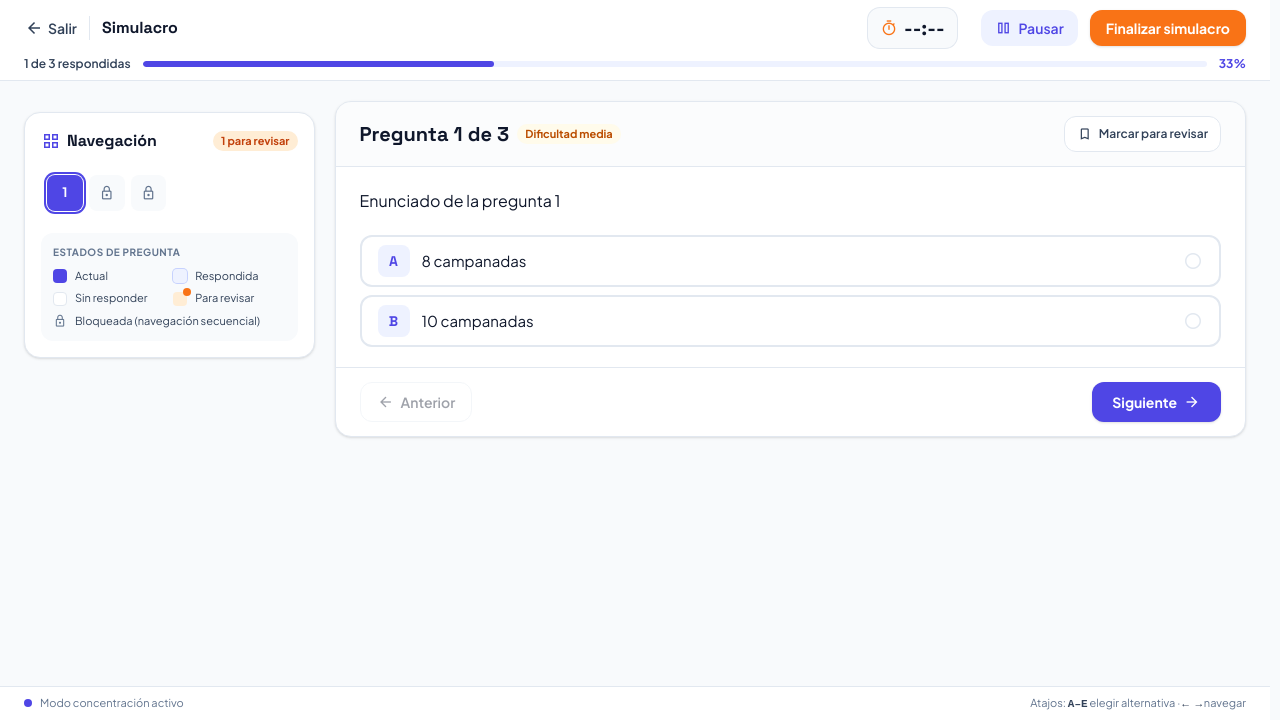
it: SimulacroPage › en navegación secuencial avanza con Siguiente pero no deja saltar a preguntas no vistas
Expected: the heading "Pregunta 1 de 3" is shown, [360,120,509,148]
Expected: the button named "Pregunta 3," is disabled, [130,175,166,211]
What coordinates should you click on to do the following:
click the button "Siguiente"
I would click on:
 (1157, 402)
Its box is [1092,382,1221,422].
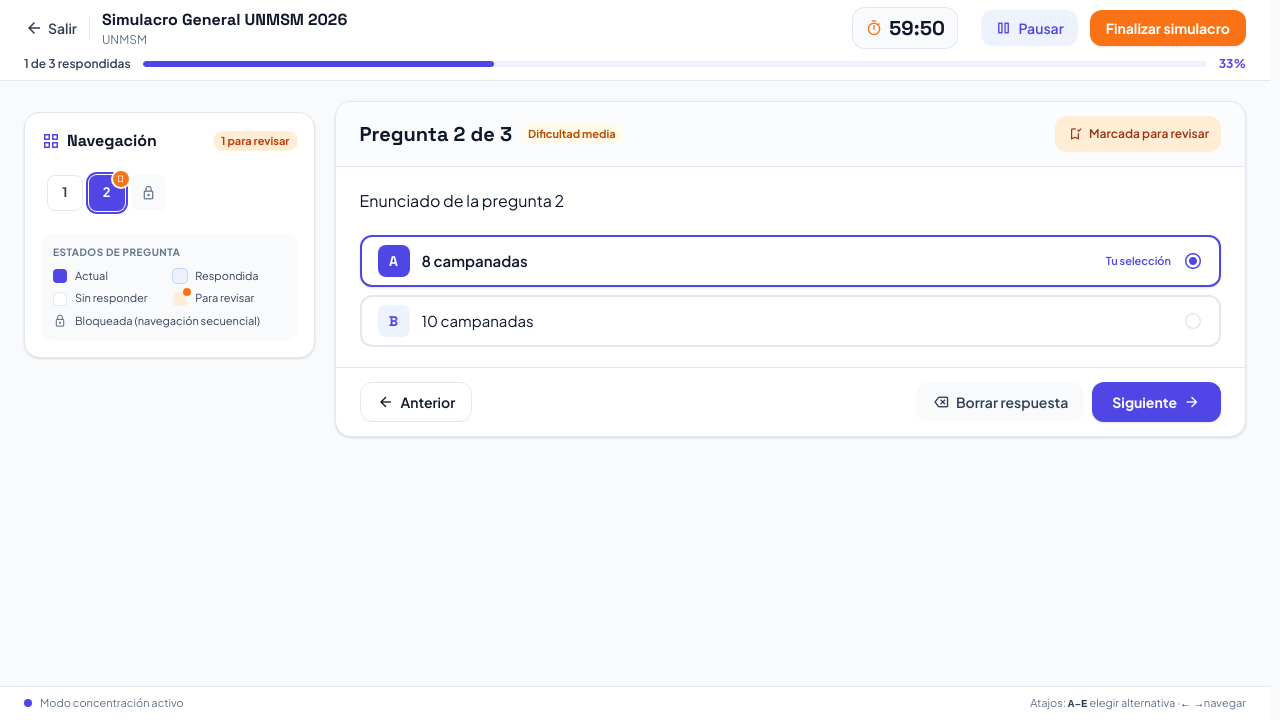
Expected: the button named "Pregunta 3," is disabled, [130,175,166,211]
Expected: the heading "Pregunta 2 de 3" is shown, [360,120,512,148]
What coordinates should you click on to do the following:
click the button named "Pregunta 1,"
I would click on:
 (65, 193)
Its box is [47,175,83,211].
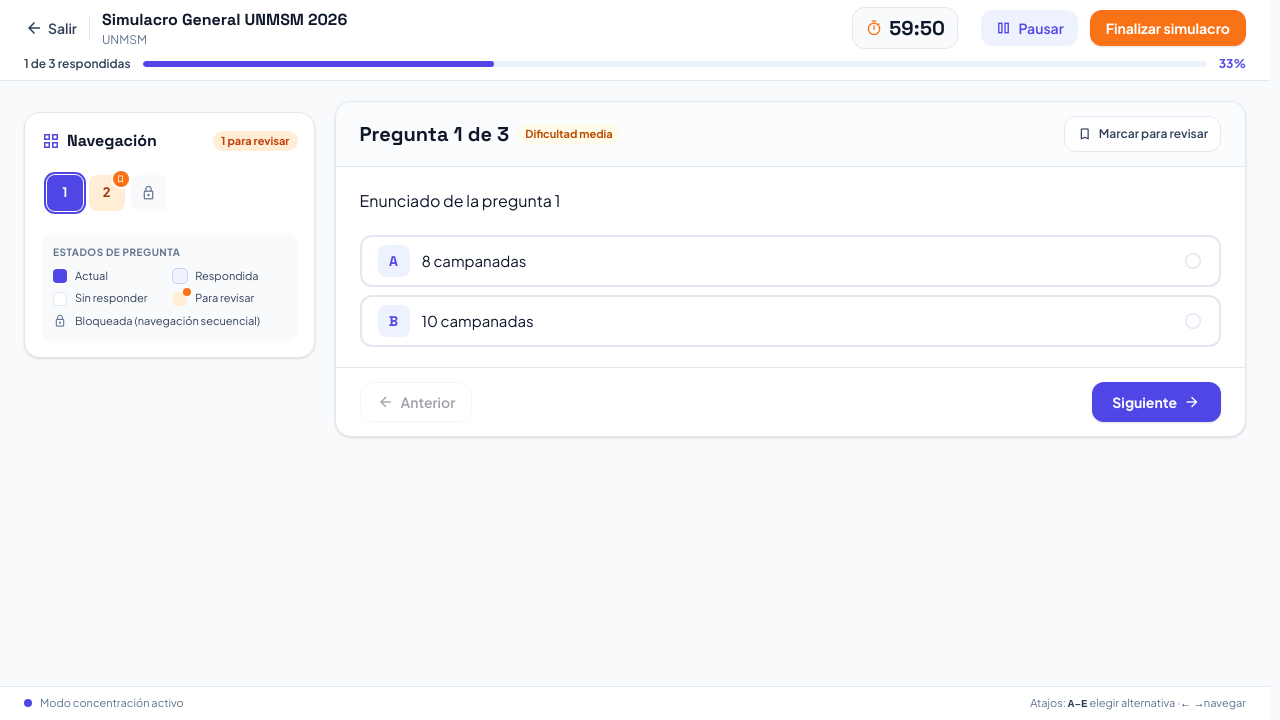
Expected: the heading "Pregunta 1 de 3" is shown, [360,120,509,148]
